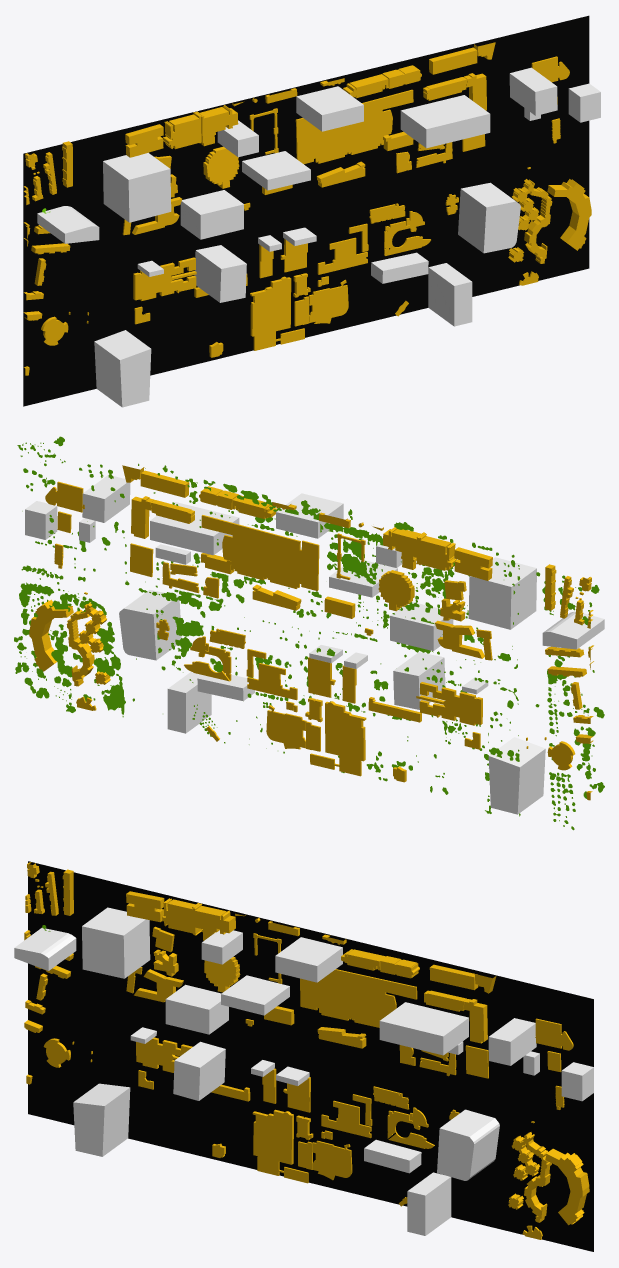
Rendered from new_high_buildings_04.glb.
3 renders of one model, top to bottom at view 1: azimuth 30°, elevation 25°; view 2: azimuth 150°, elevation 25°; view 3: azimuth 330°, elevation 25°, orthographic.
Visible parts, largest first — view 1: Layer 04, existing_building - Copy, new buildings; view 2: existing_building - Copy, new buildings, treesurface; view 3: Layer 04, existing_building - Copy, new buildings.
Boxes of the visible parts, box(x1,y1,x2,y2) form: Layer 04: box(23, 15, 589, 406); existing_building - Copy: box(23, 42, 591, 375); new buildings: box(37, 67, 600, 407); existing_building - Copy: box(29, 465, 593, 800); new buildings: box(25, 474, 604, 814); treesurface: box(14, 436, 604, 830); Layer 04: box(28, 861, 593, 1251); existing_building - Copy: box(24, 862, 589, 1239); new buildings: box(14, 907, 593, 1235).
Size of the model in its own units: 1035 by 458 by 84.18.
